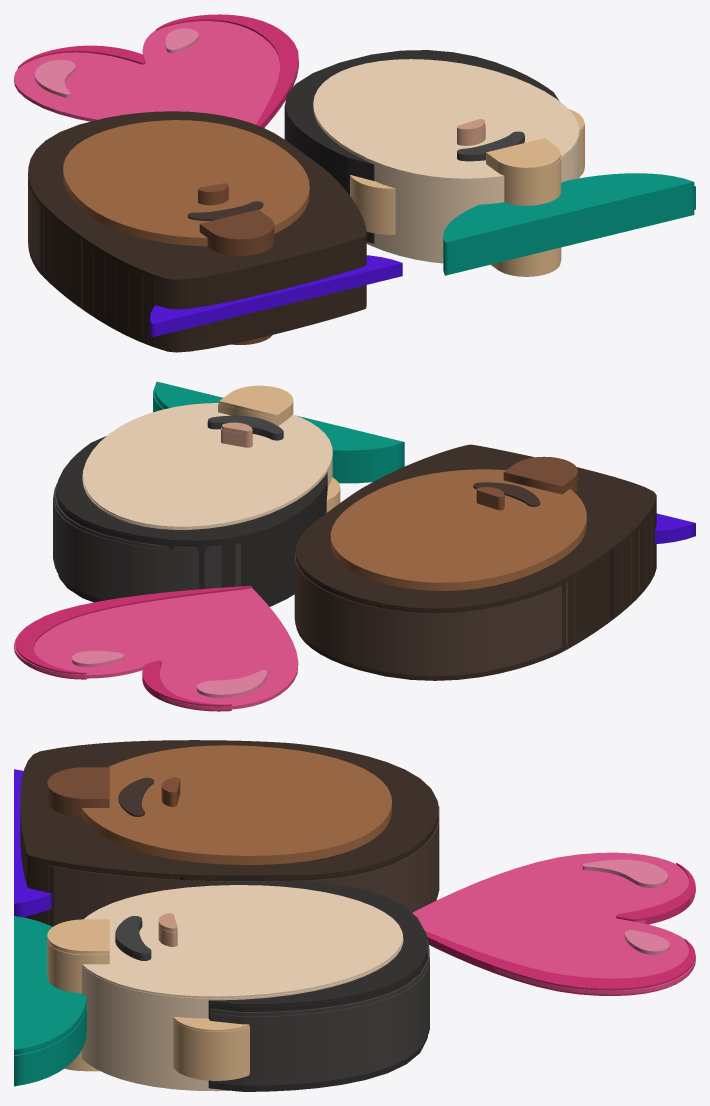
Rendered from emoji_u1f469_1f3fe_200d_2764_200d_1f468_1f3fb.glb.
3 renders of one model, top to bottom at view 1: azimuth 30°, elevation 25°; view 2: azimuth 150°, elevation 25°; view 3: azimuth 270°, elevation 25°, orthographic. The views are drawn at different scales.
Visible parts, largest first — view 1: emoji_u1f469_1f3fe_200d_2764_200d_1f468_1f3fb; view 2: emoji_u1f469_1f3fe_200d_2764_200d_1f468_1f3fb; view 3: emoji_u1f469_1f3fe_200d_2764_200d_1f468_1f3fb.
Part boxes in pixels (<box>): emoji_u1f469_1f3fe_200d_2764_200d_1f468_1f3fb: <box>14,14,695,352</box>; emoji_u1f469_1f3fe_200d_2764_200d_1f468_1f3fb: <box>14,381,695,711</box>; emoji_u1f469_1f3fe_200d_2764_200d_1f468_1f3fb: <box>14,740,695,1091</box>.
Size of the model in its own units: 0.0345 by 0.0072 by 0.0339.
